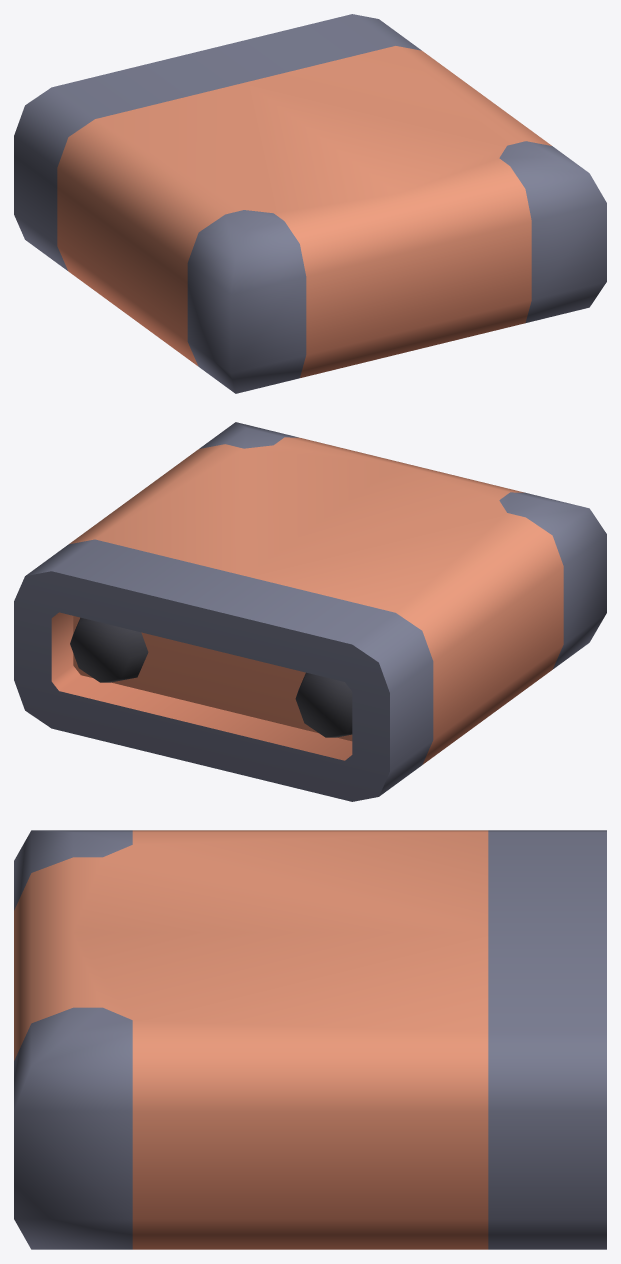
File: conveyor-stripe-junction-t.obj
3 views of the same model, one above another, from view 1: azimuth 30°, elevation 25°; view 2: azimuth 150°, elevation 25°; view 3: azimuth 270°, elevation 25° (orthographic). The views are drawn at different scales.
Visible parts, largest first — view 1: conveyor-stripe-junction-t; view 2: conveyor-stripe-junction-t; view 3: conveyor-stripe-junction-t.
Boxes of the visible parts, bbox=[...] form: conveyor-stripe-junction-t: bbox=[14, 14, 606, 393]; conveyor-stripe-junction-t: bbox=[14, 422, 606, 801]; conveyor-stripe-junction-t: bbox=[14, 830, 606, 1249].
Bounding box in the file's own units: 1 × 0.4 × 1.
